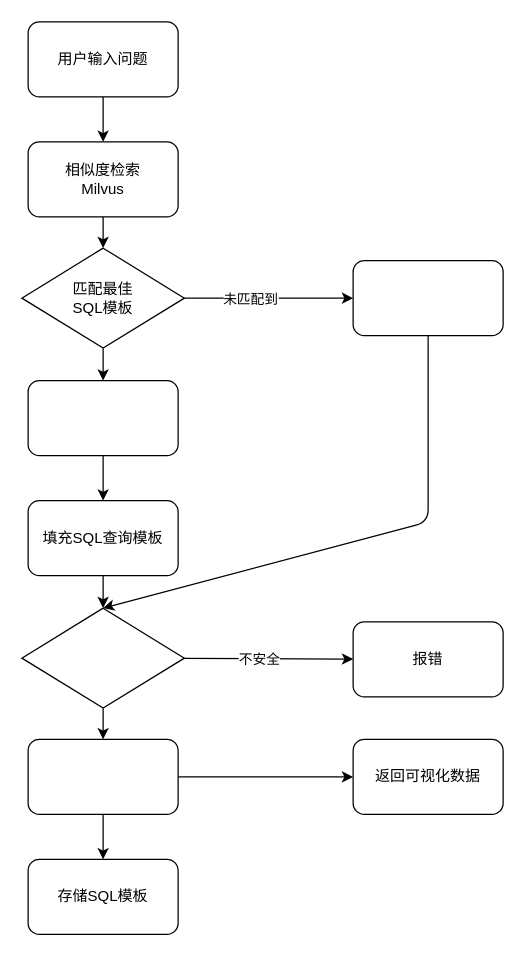
Image size: 525x956. Some labels were removed from this diagram. Each missing label, with the centre of its shape:
"参数提取" goes at pixel 102 417.
"执行SQL" goes at pixel 102 776.
"检查SQL注入" goes at pixel 102 657.
"模型生成SQL" goes at pixel 427 297.
